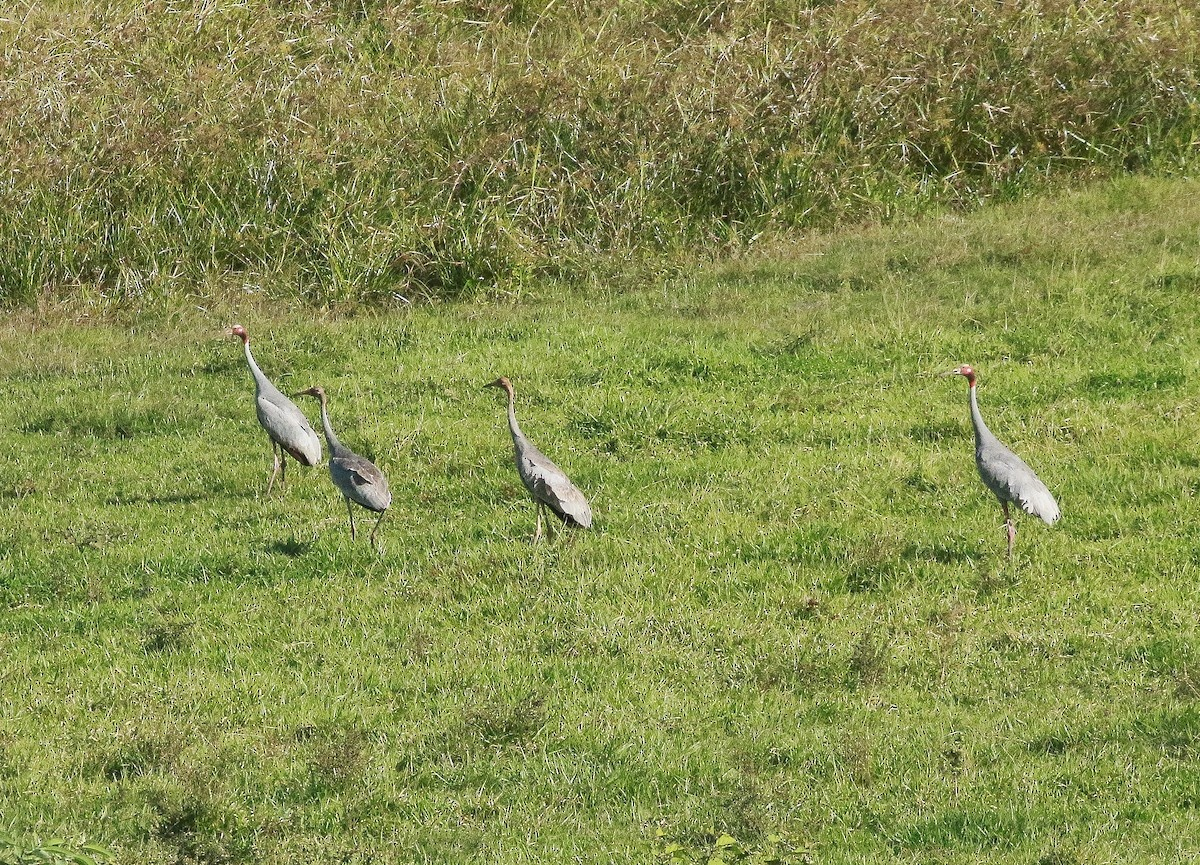crane: (925, 357, 1063, 544), (474, 365, 594, 546), (299, 379, 416, 555), (214, 306, 324, 488)
